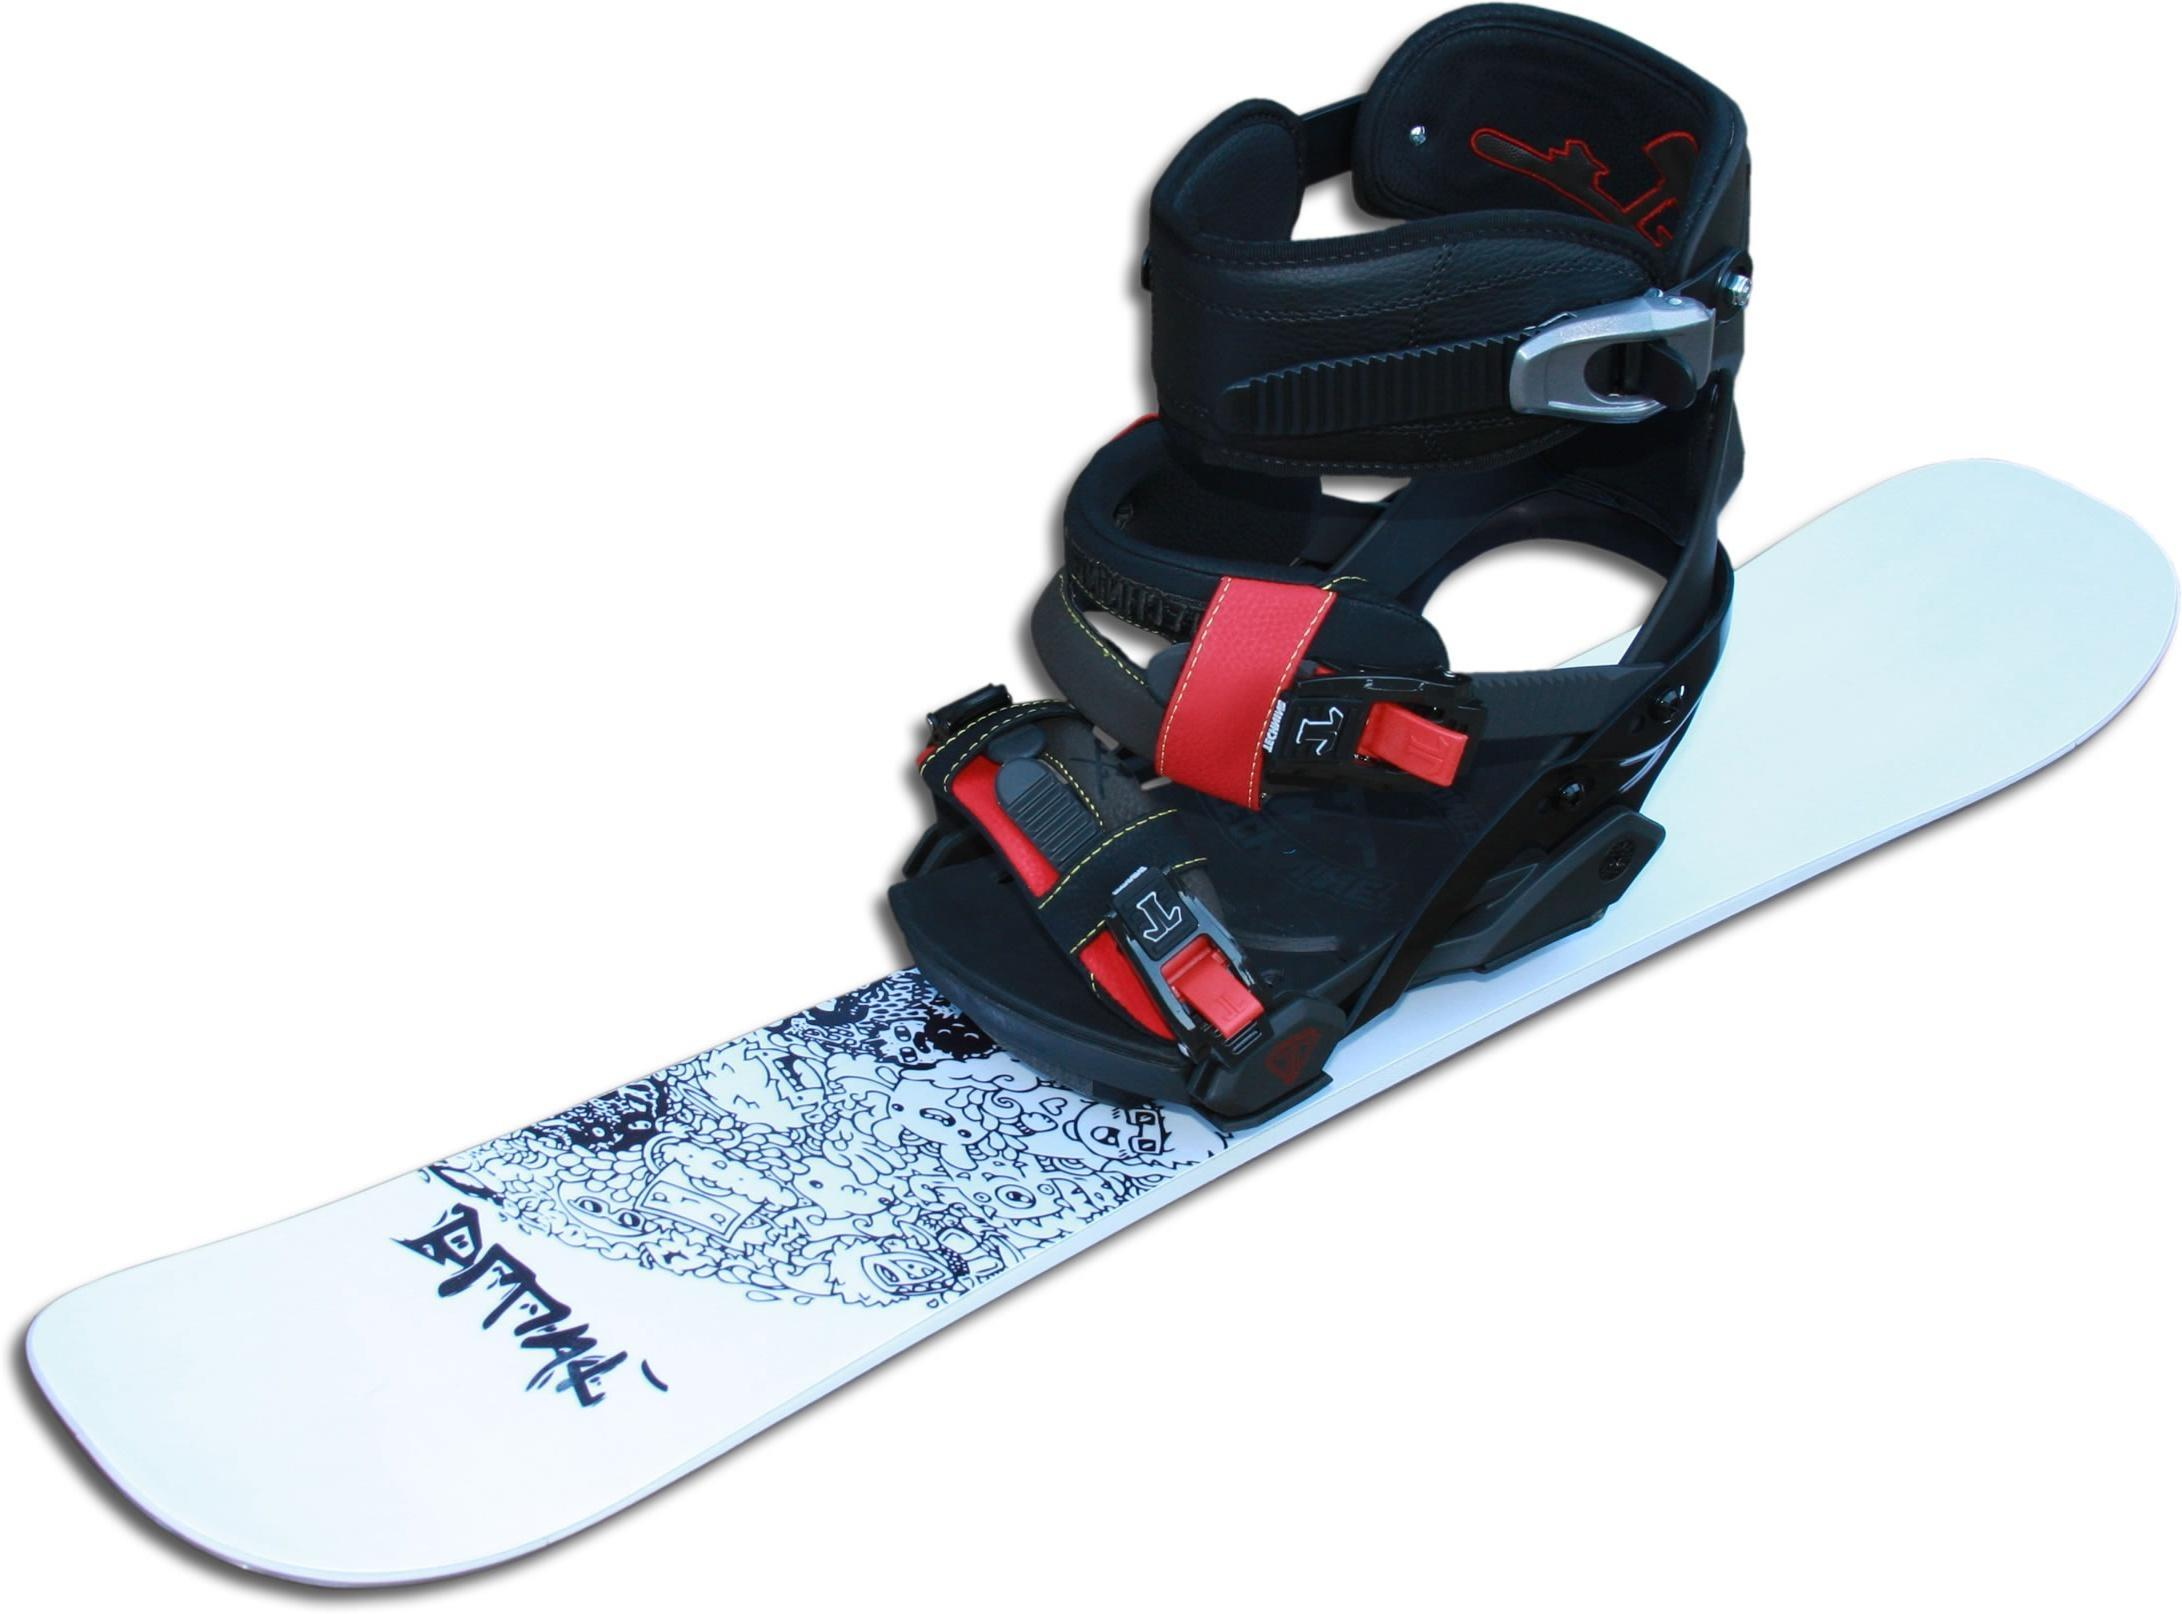Skis: (0, 405, 2175, 1604)
